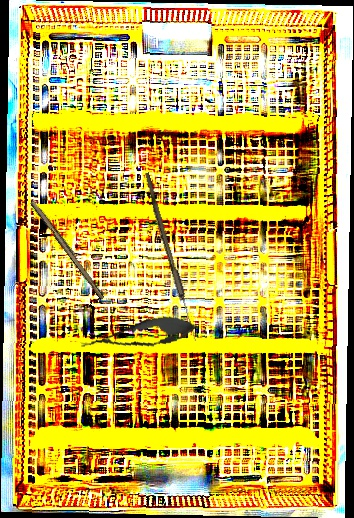Micro Scissor: (78, 309, 200, 361)
Scalpel Handle: (28, 198, 108, 301)
Surgical Spoon: (141, 172, 200, 342)
